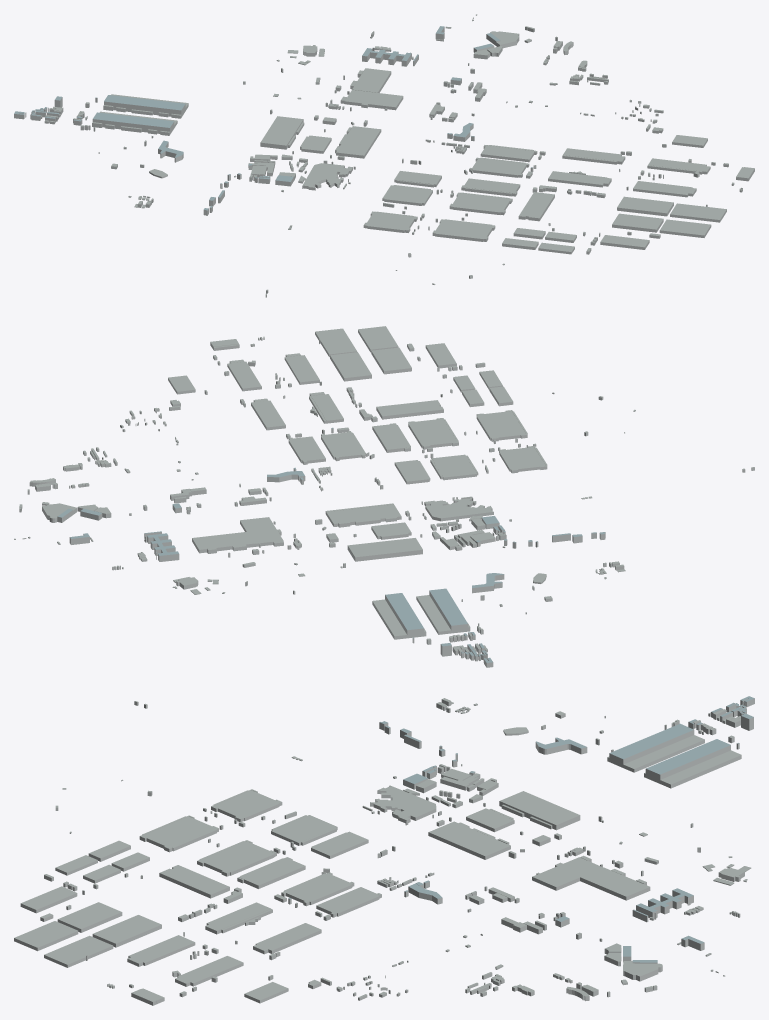
File: far.glb
3 views of the same model, one above another, from view 1: azimuth 30°, elevation 25°; view 2: azimuth 150°, elevation 25°; view 3: azimuth 270°, elevation 25° (orthographic). The views are drawn at different scales.
Bounding box in the file's own units: 2157 × 39.12 × 2215.
